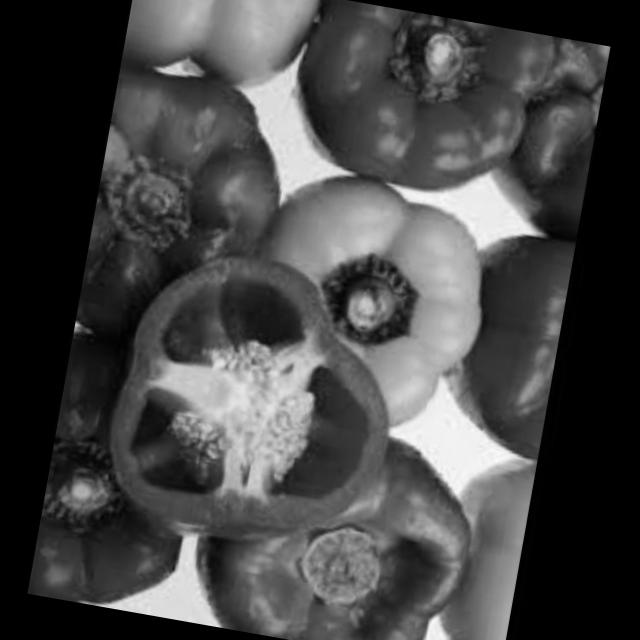bell pepper: (93, 236, 421, 581), (232, 151, 510, 443), (78, 56, 319, 350), (182, 413, 490, 640), (266, 0, 557, 214), (31, 326, 234, 611), (440, 215, 580, 470), (416, 435, 542, 640), (504, 35, 612, 263), (123, 0, 339, 97)
